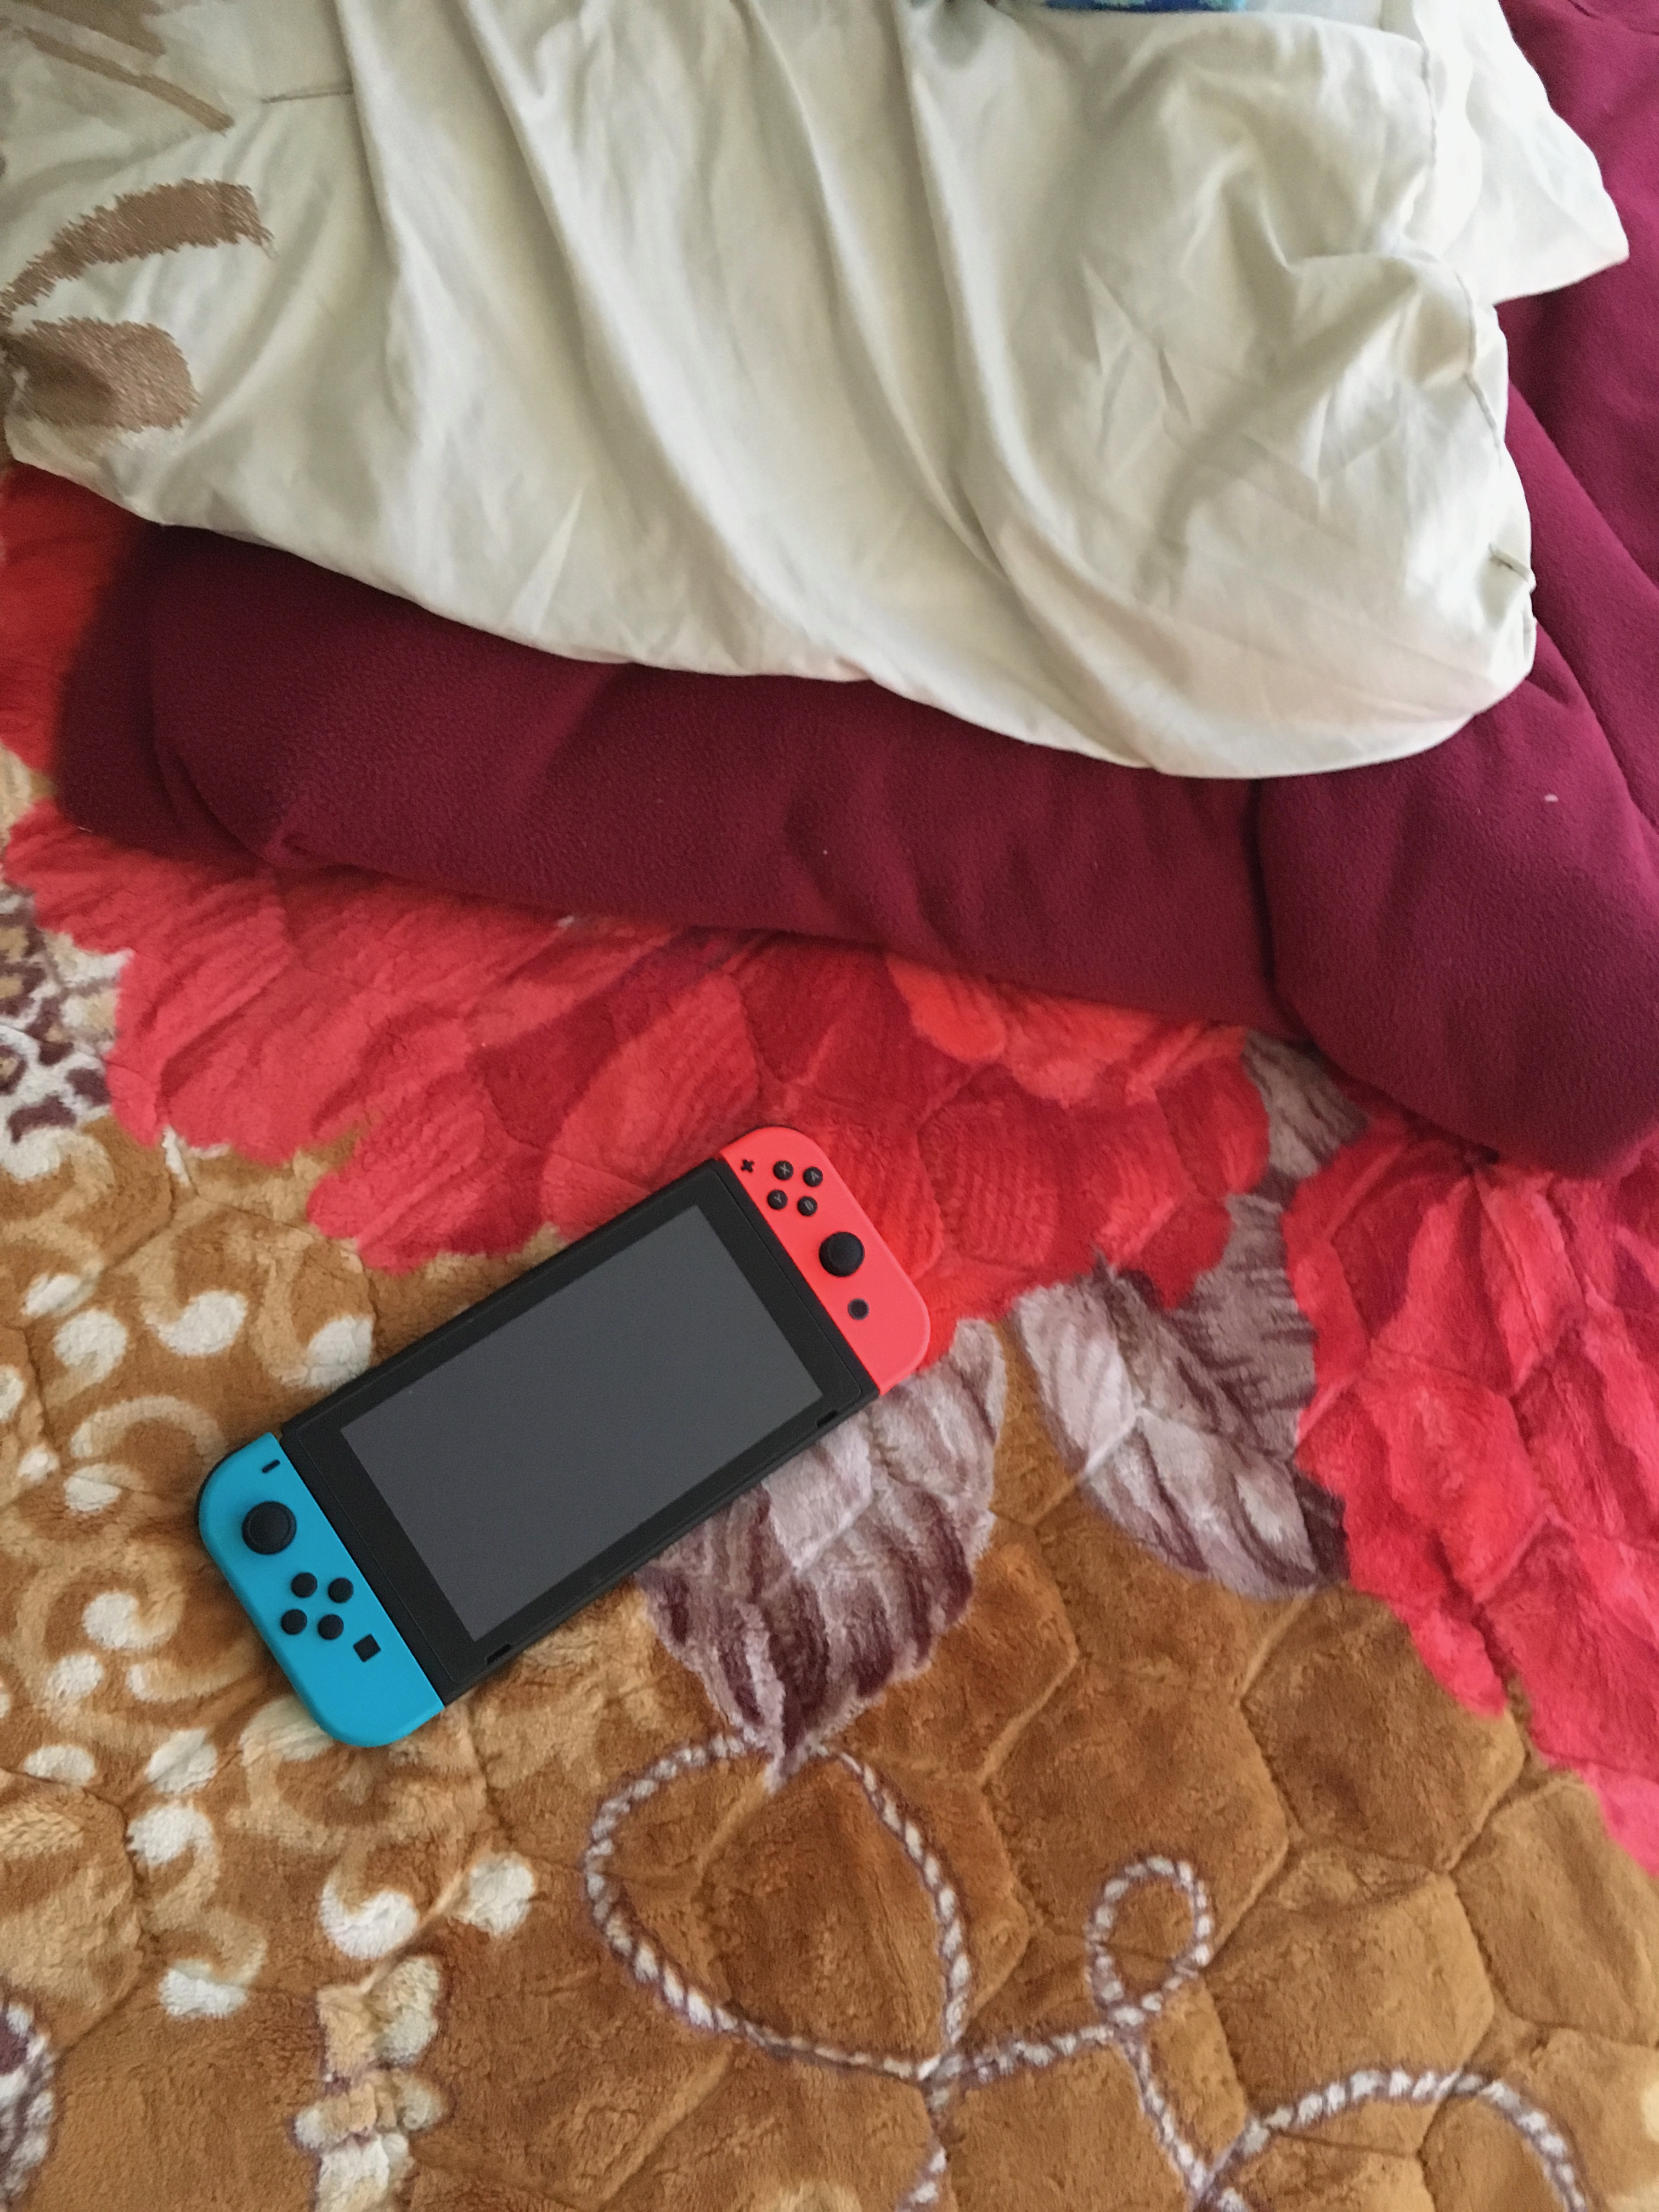NintendoSwitch: (179, 1108, 943, 1768)
